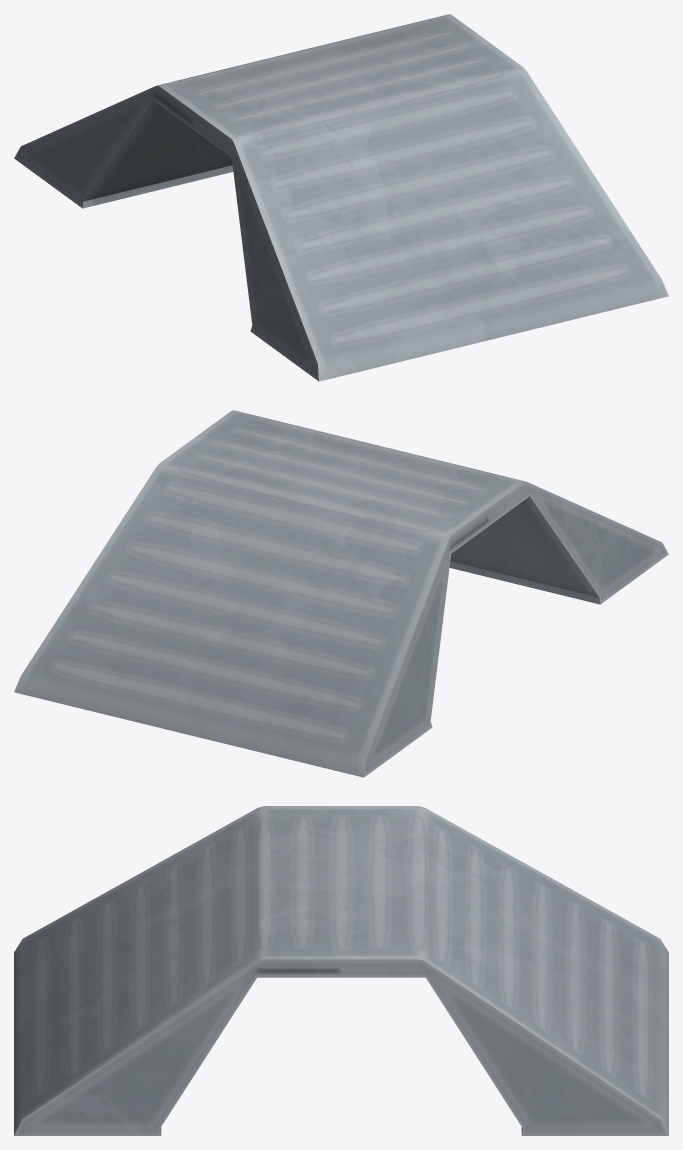
The model's file is BankVaultStairs01.FBX.
3 views of the same model, one above another, from view 1: azimuth 30°, elevation 25°; view 2: azimuth 150°, elevation 25°; view 3: azimuth 270°, elevation 25° (orthographic). The views are drawn at different scales.
Visible parts, largest first — view 1: BankVaultStairs01; view 2: BankVaultStairs01; view 3: BankVaultStairs01.
Boxes of the visible parts, x1,y1,x2,y2 form: BankVaultStairs01: (14, 14, 668, 381); BankVaultStairs01: (14, 410, 668, 777); BankVaultStairs01: (14, 806, 668, 1135).
Size of what is drawn, in the model's own units: 1.29 by 0.5322 by 1.96.
